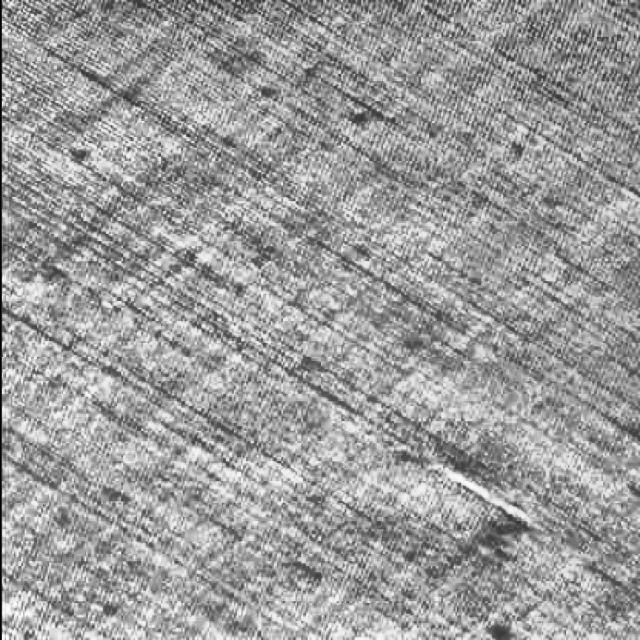thread_error: (390, 435, 549, 544)
